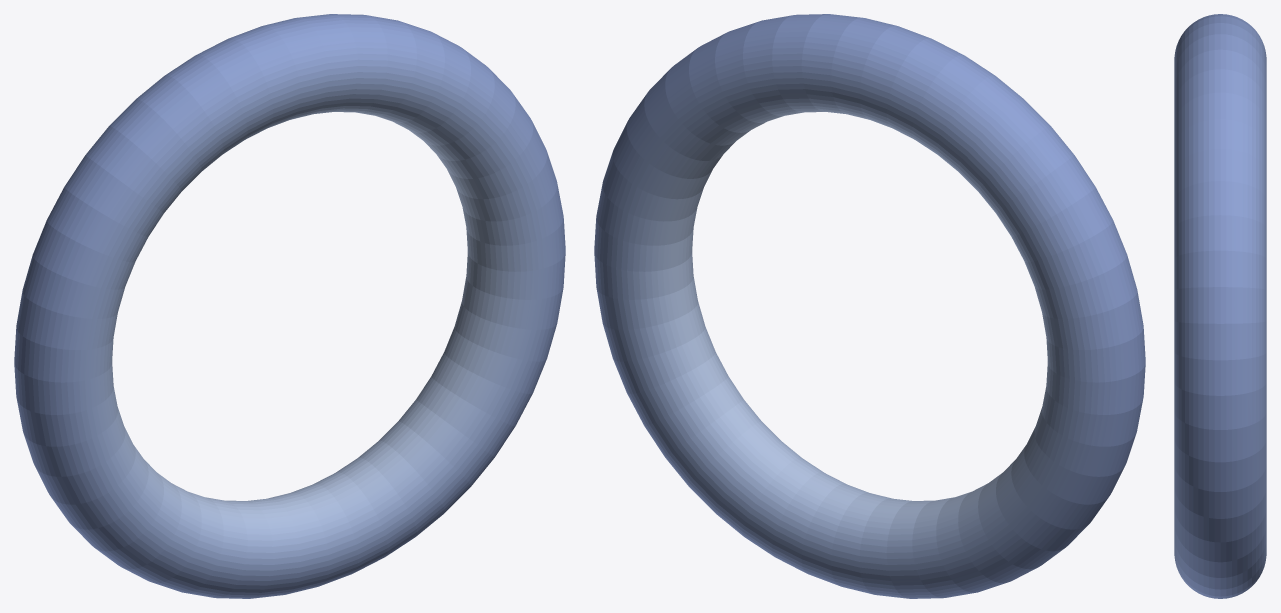
3 renders of one model, left to right at view 1: azimuth 30°, elevation 25°; view 2: azimuth 150°, elevation 25°; view 3: azimuth 270°, elevation 25°, orthographic. The views are drawn at different scales.
Parts seen in each view (by area): view 1: world; view 2: world; view 3: world.
Boxes of the visible parts, x1,y1,x2,y2 form: world: (14,14,565,598); world: (594,14,1145,598); world: (1174,14,1266,598).
Bounding box in the file's own units: 24.53 × 24.48 × 3.86.
